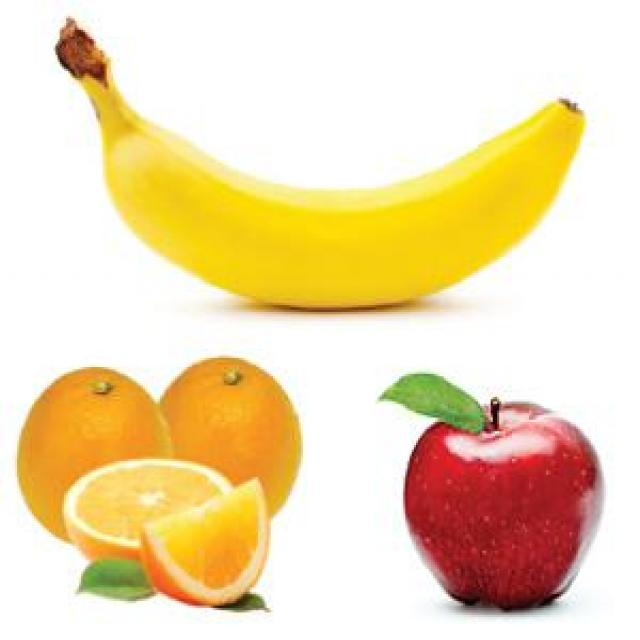apple: (375, 365, 608, 621)
banana: (46, 14, 591, 316)
orange: (17, 362, 300, 617)
